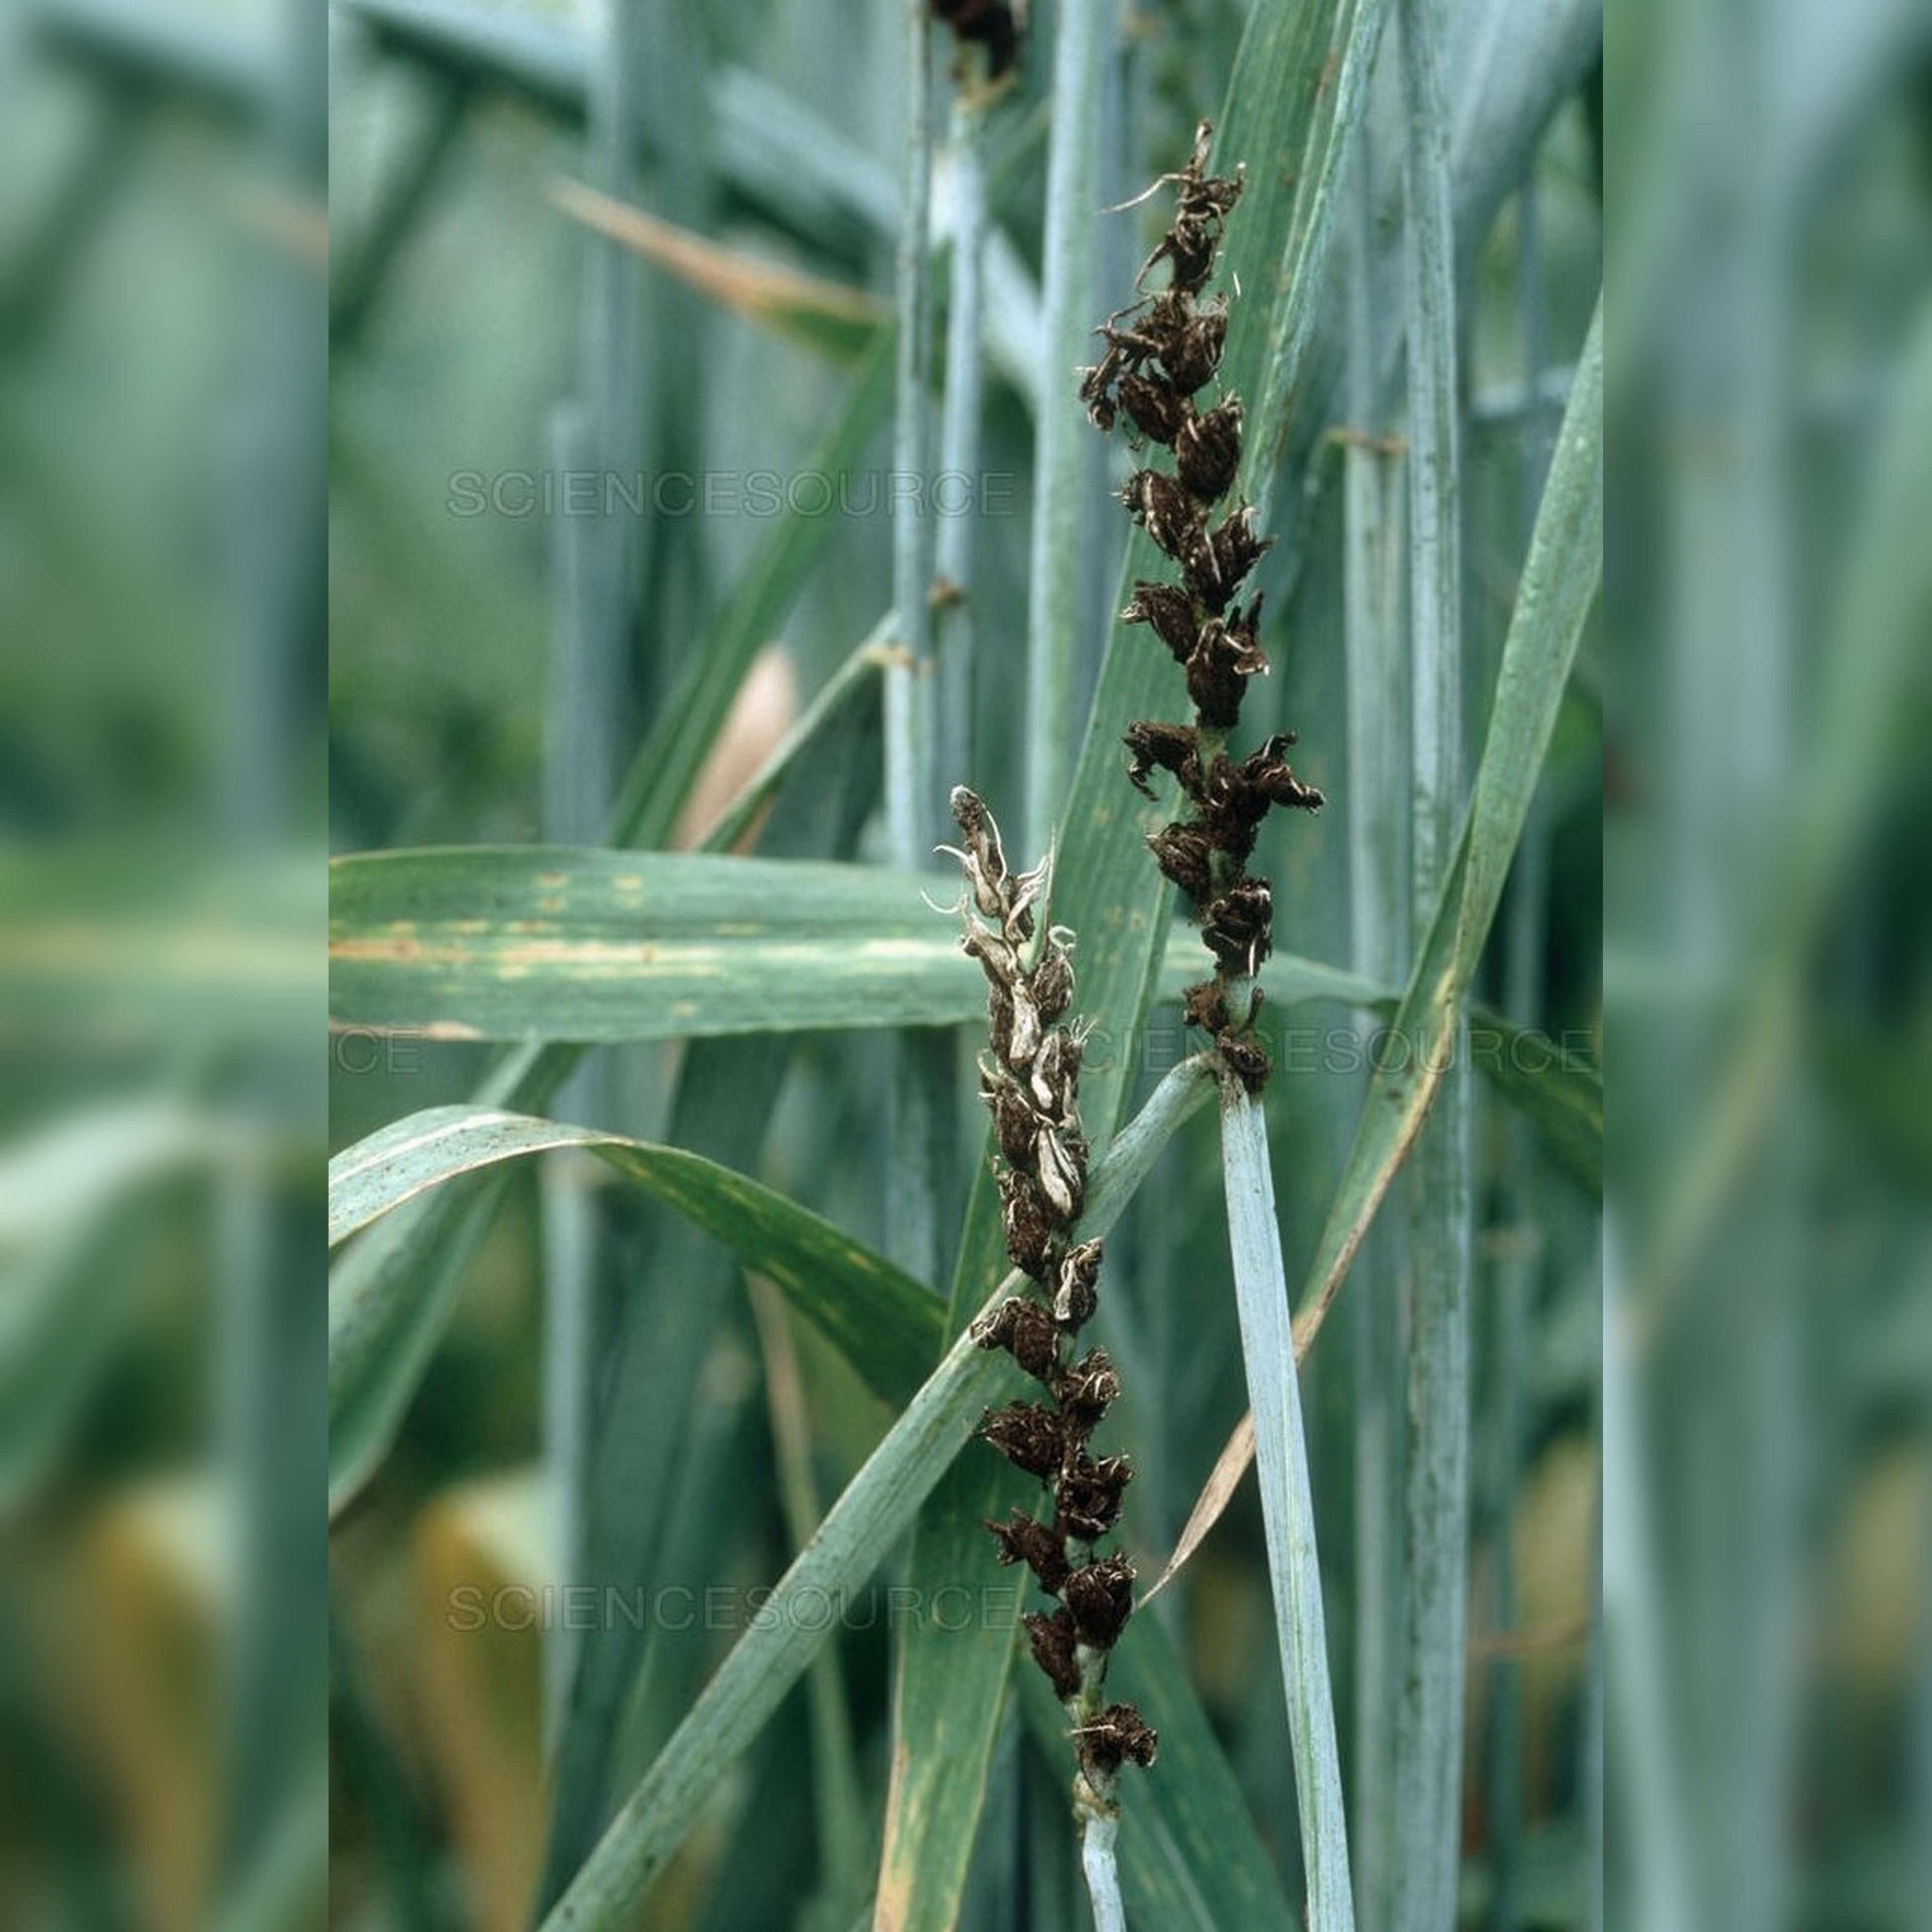Wheat Loose Smut: (1065, 156, 1414, 1033), (883, 800, 1152, 1780)
